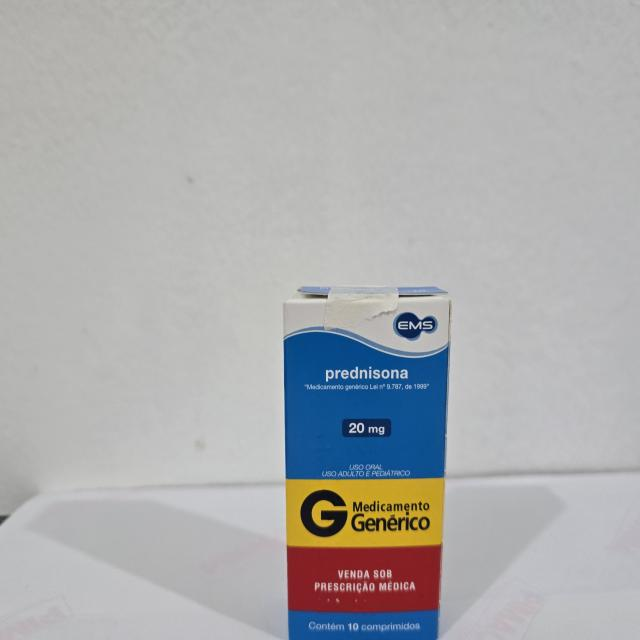prednisona: (278, 281, 455, 640)
